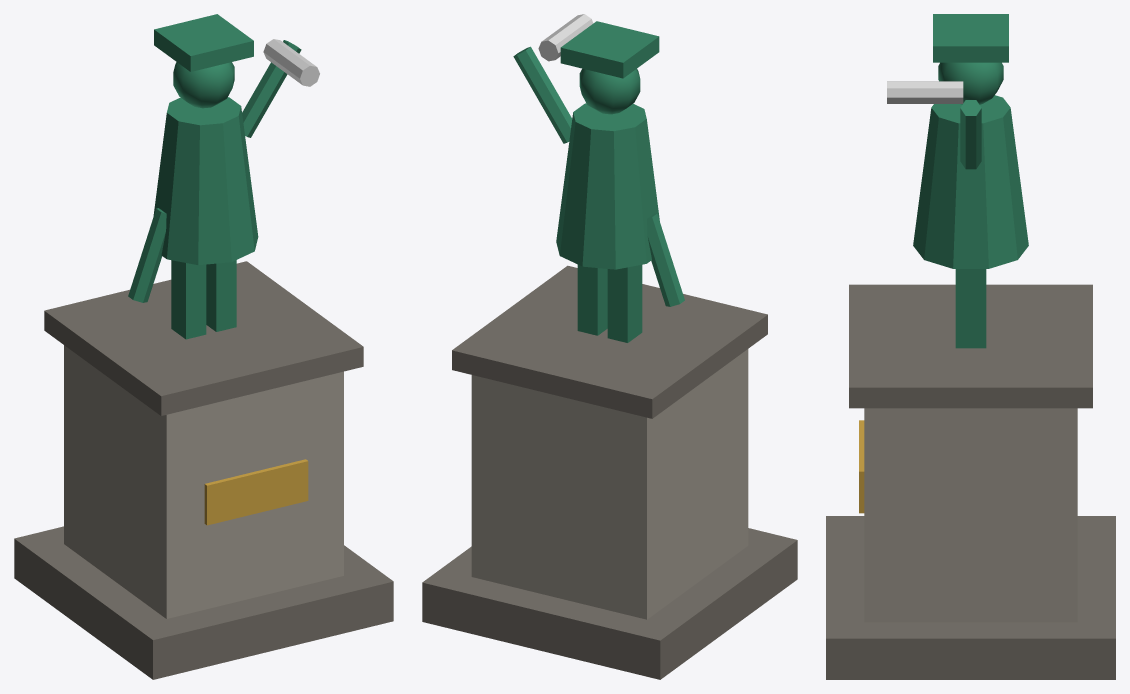
The model's file is statue.gltf.
3 views of the same model, side by side, from view 1: azimuth 30°, elevation 25°; view 2: azimuth 150°, elevation 25°; view 3: azimuth 270°, elevation 25° (orthographic). The views are drawn at different scales.
Visible parts, largest first — view 1: statue; view 2: statue; view 3: statue.
Boxes of the visible parts, box(x1,y1,x2,y2) form: statue: box(14, 14, 393, 679); statue: box(422, 14, 797, 679); statue: box(826, 14, 1115, 679).
Bounding box in the file's own units: 1.9 × 4.26 × 1.9.
